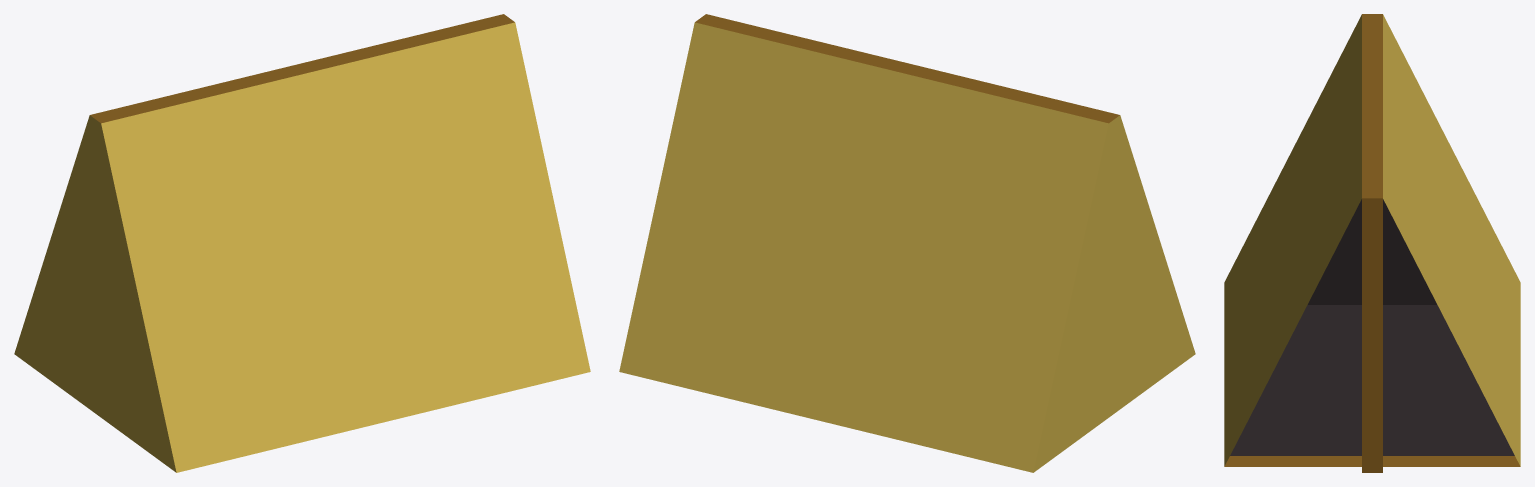
The picture shows the model from 3 angles, left to right: view 1: azimuth 30°, elevation 25°; view 2: azimuth 150°, elevation 25°; view 3: azimuth 270°, elevation 25°; orthographic projection. The views are drawn at different scales.
Parts seen in each view (by area): view 1: Cube; view 2: Cube; view 3: Cube.
Boxes of the visible parts, x1,y1,x2,y2 form: Cube: [14, 14, 590, 472]; Cube: [619, 14, 1195, 472]; Cube: [1224, 14, 1520, 472].
Size of the model in its own units: 306 by 200 by 200.
